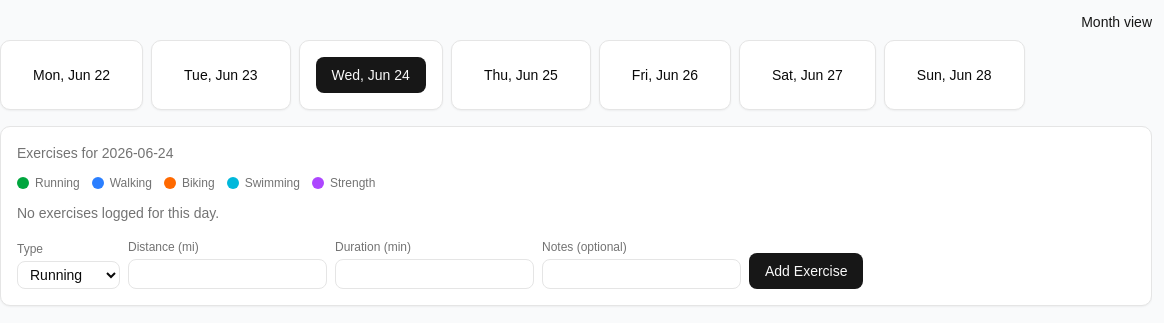
Test: ExerciseCalendarPage › updates the selected day when a different day is clicked
Expected: the text "Exercises for 2026-06-24" is shown, 17,145 -> 173,161
Click the button "Mon, Jun 22" at [72, 75], box 17,57 -> 126,93
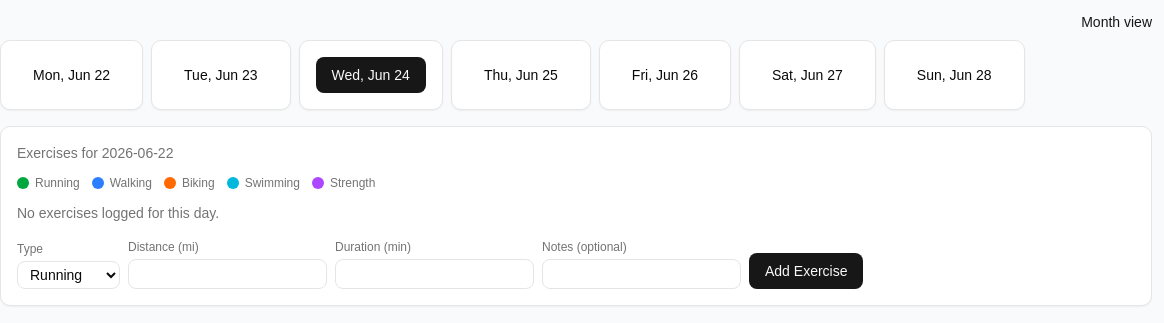
Now the text "Exercises for 2026-06-22" is shown, box 17,145 -> 173,161
Now the text "Exercises for 2026-06-24" is gone
